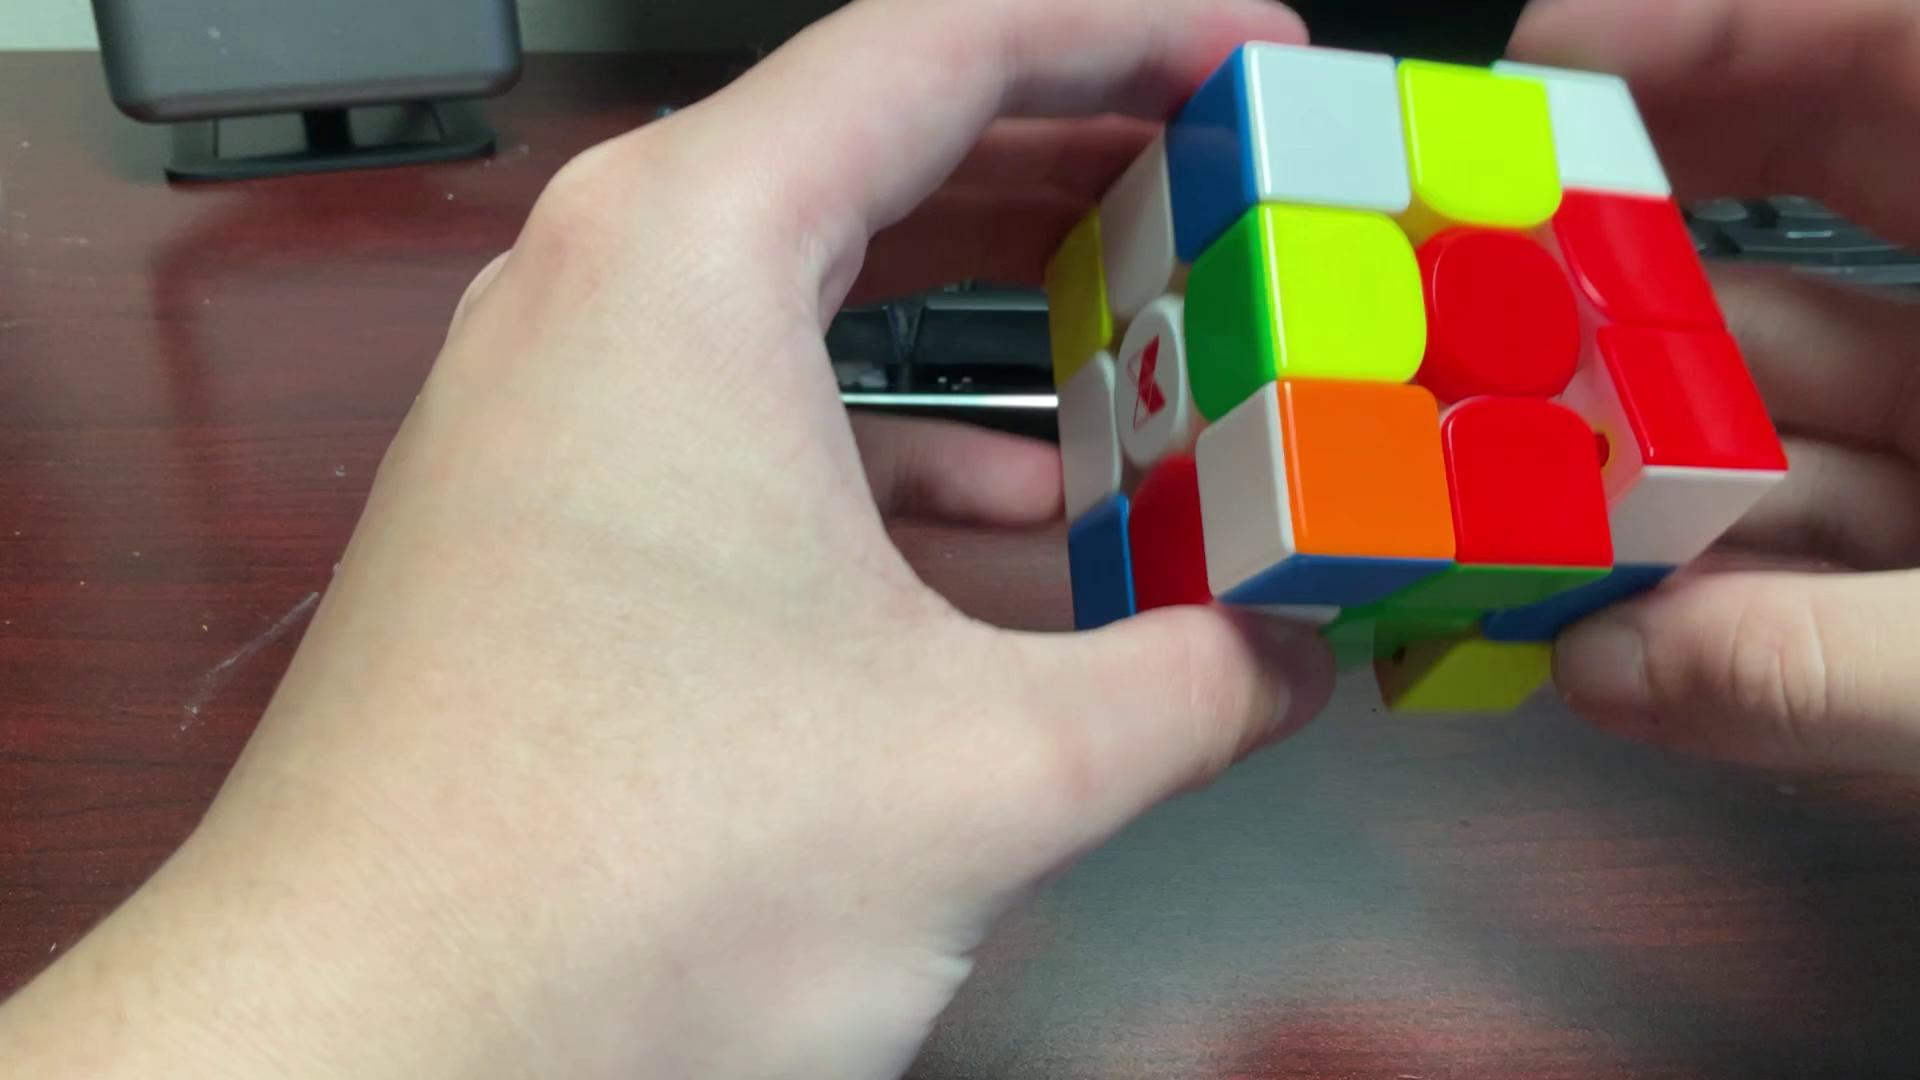Rubiks-Cube: (1030, 37, 1793, 731)
